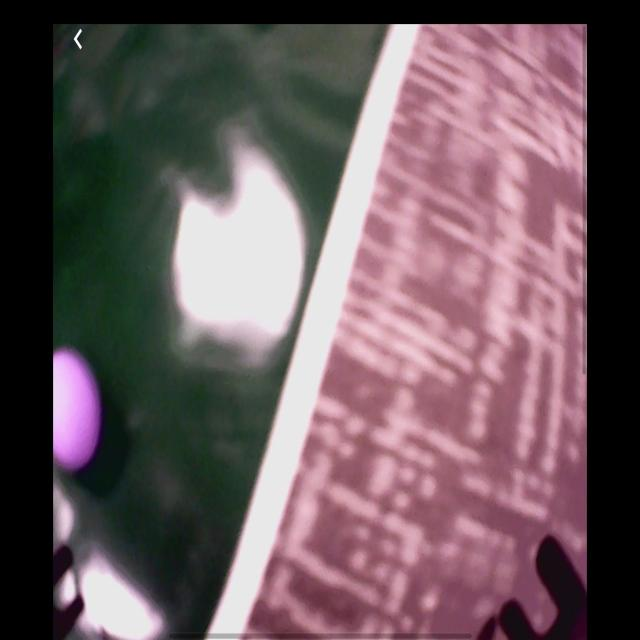ball: (56, 349, 100, 469)
